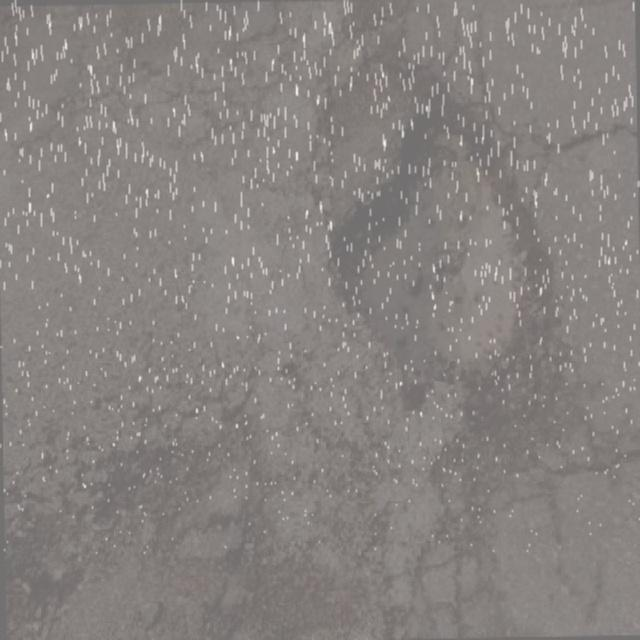Pothole: (287, 42, 597, 552), (0, 391, 262, 640)
